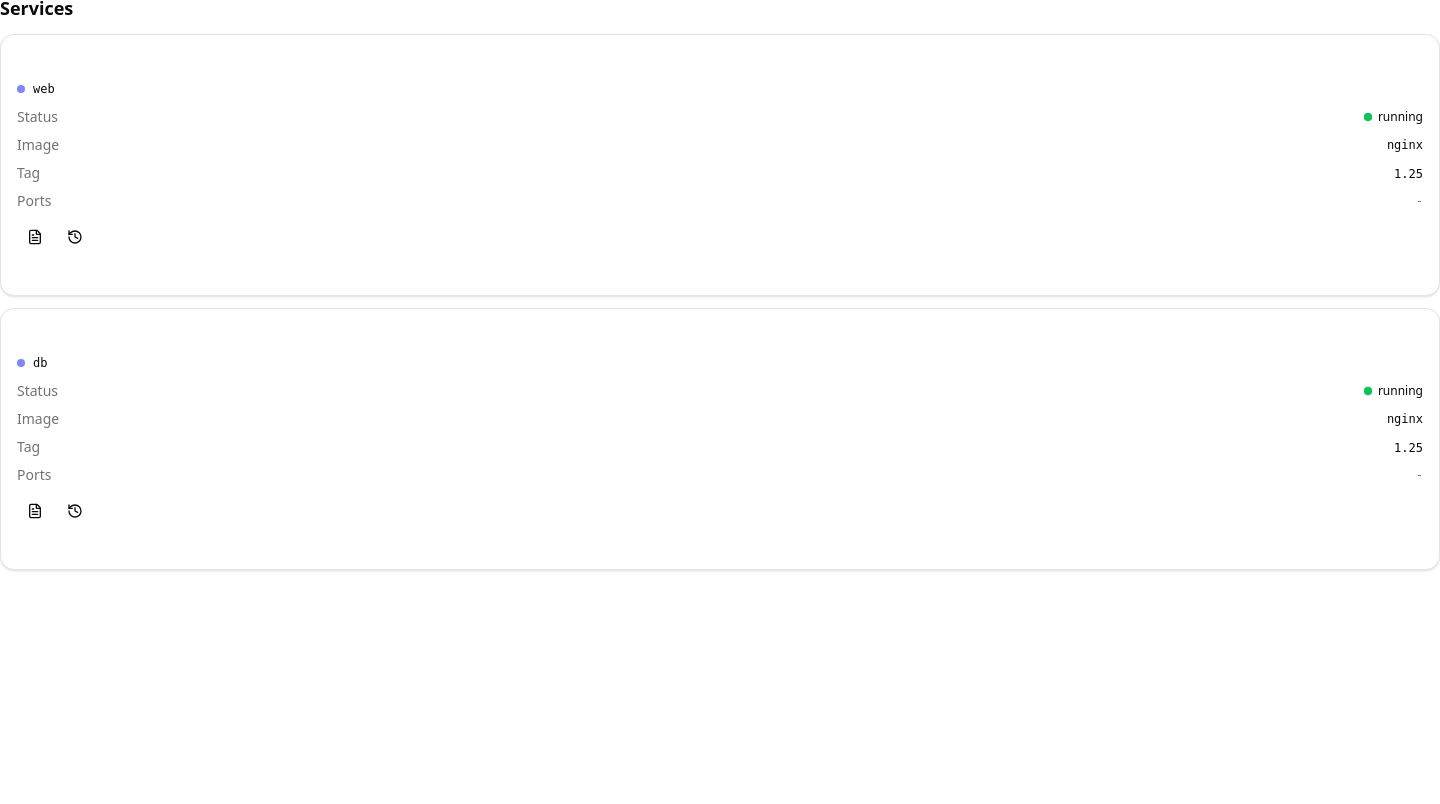
Test: ServicesSection › health history (D-12) › lets several services be open at once, each with only its own slice
Click the button named "Show health history for web".
click(75, 237)  # box [57, 219, 93, 255]
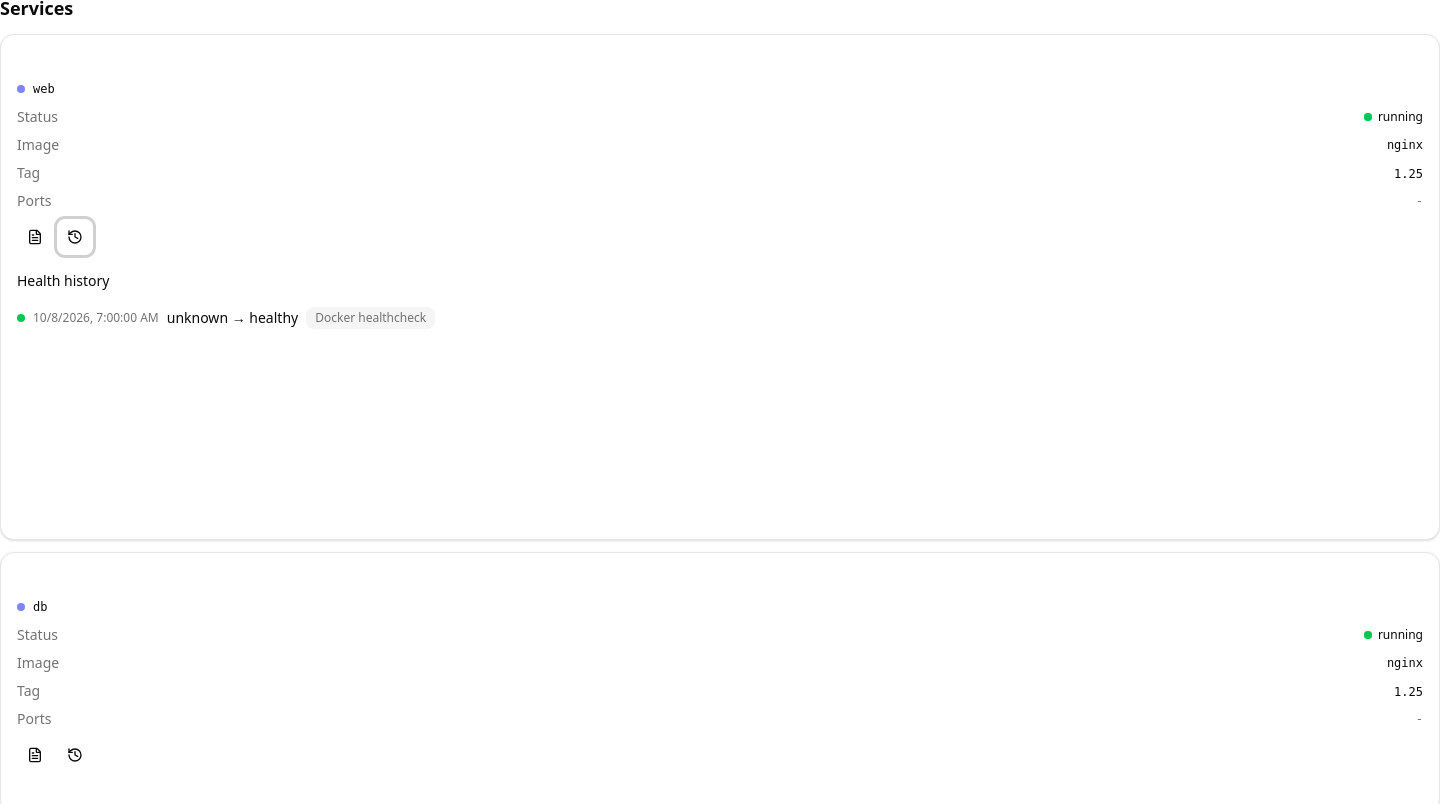
Click the button named "Show health history for db".
click(75, 755)  # box [57, 737, 93, 773]
(page scrolled)
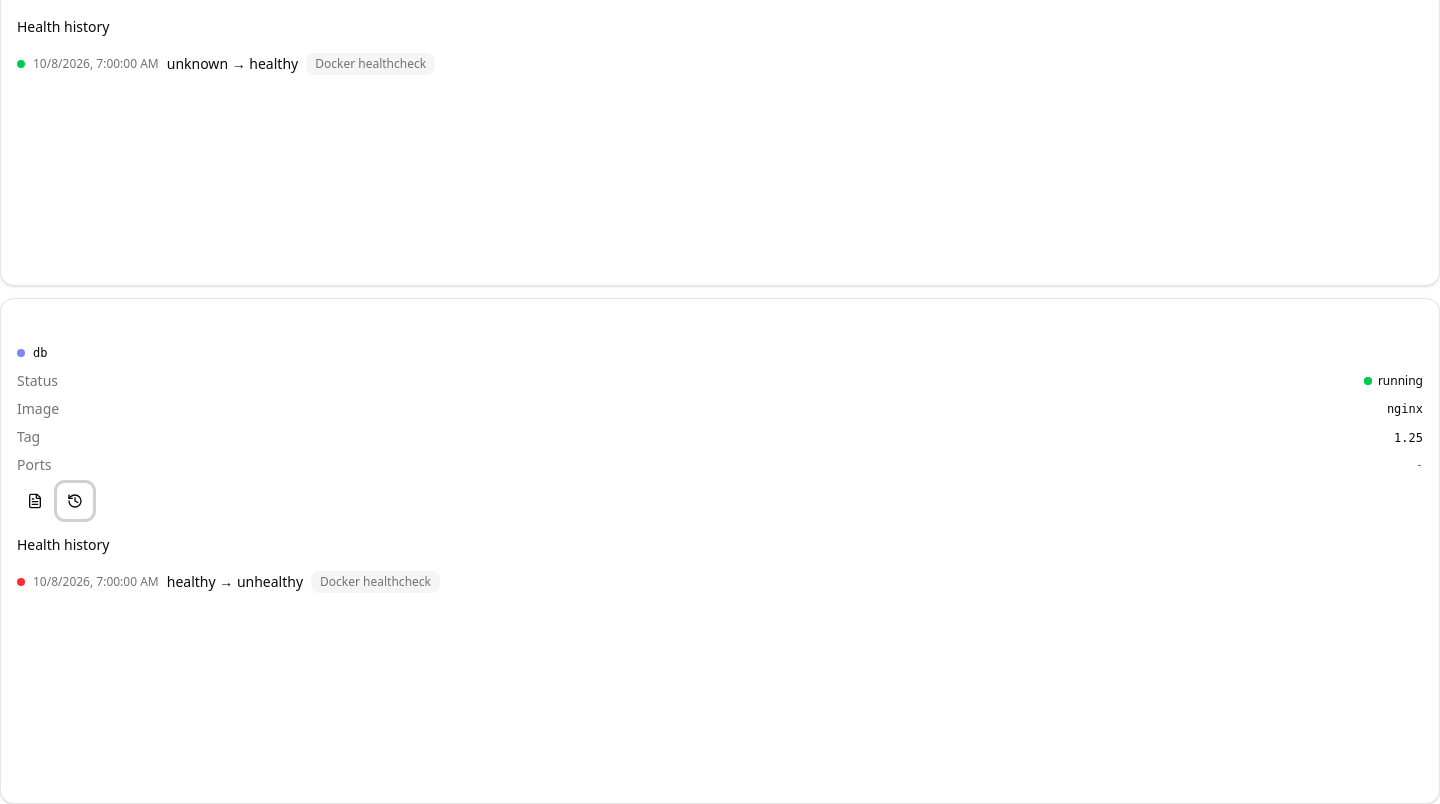
Now the text "unknown → healthy" is shown, box [167, 54, 298, 74]
Now the number of headings "Health history" is 2, box [17, 17, 110, 36]; [17, 535, 110, 554]
Now the text "healthy → unhealthy" is shown, box [167, 572, 303, 592]
